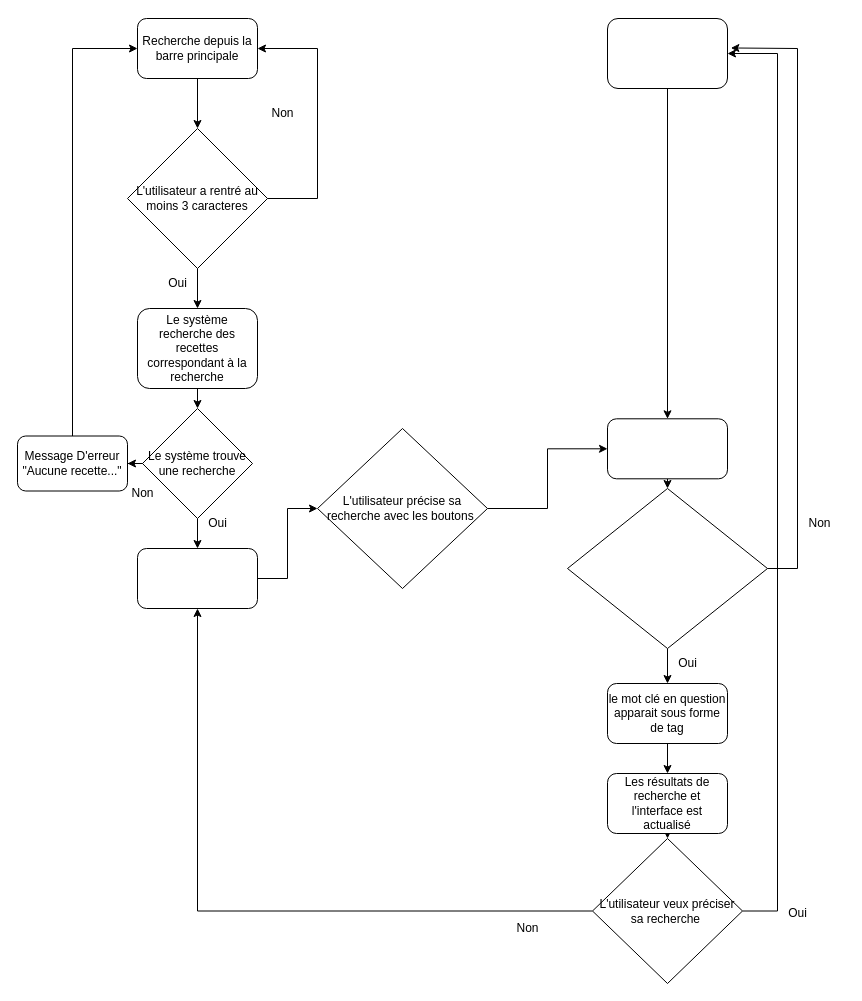
The diagram is 862 pixels wide and 1001 high, and some of its shapes have lost their labels. Each missing label, with the centre of its shape:
"l'interface est actualisé" goes at pixel 197 578.
"L'utilisateur choisit un mot clé dans le champ" goes at pixel 667 568.
"les mots clés disparaisse au remplissage" goes at pixel 667 448.
"Recherche par mots clés dans les ingrédients, les ustensiles ou les appareils" goes at pixel 667 53.
